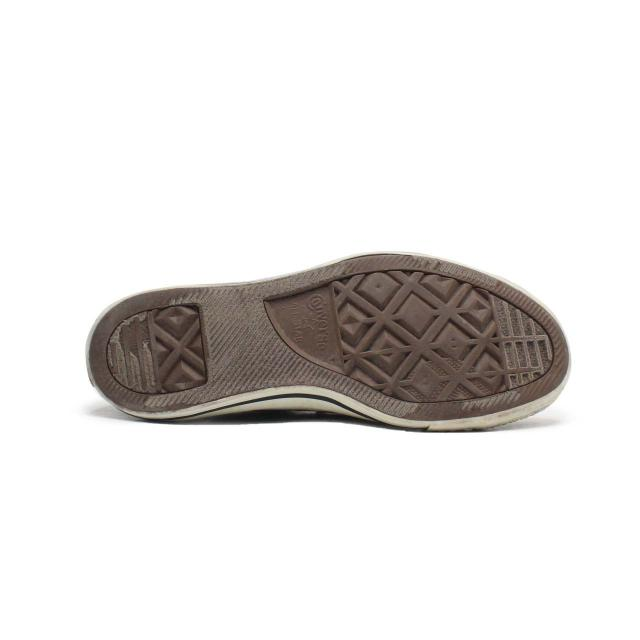outersole: (86, 254, 570, 429)
